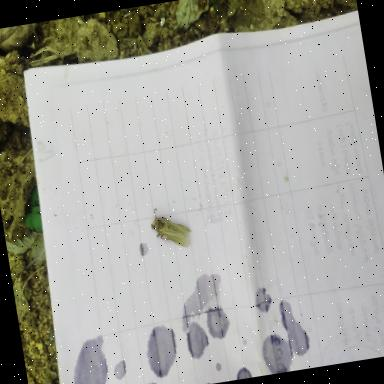pbw: (148, 203, 194, 252)
